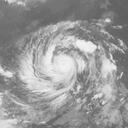cyclone: (15, 20, 114, 103)
